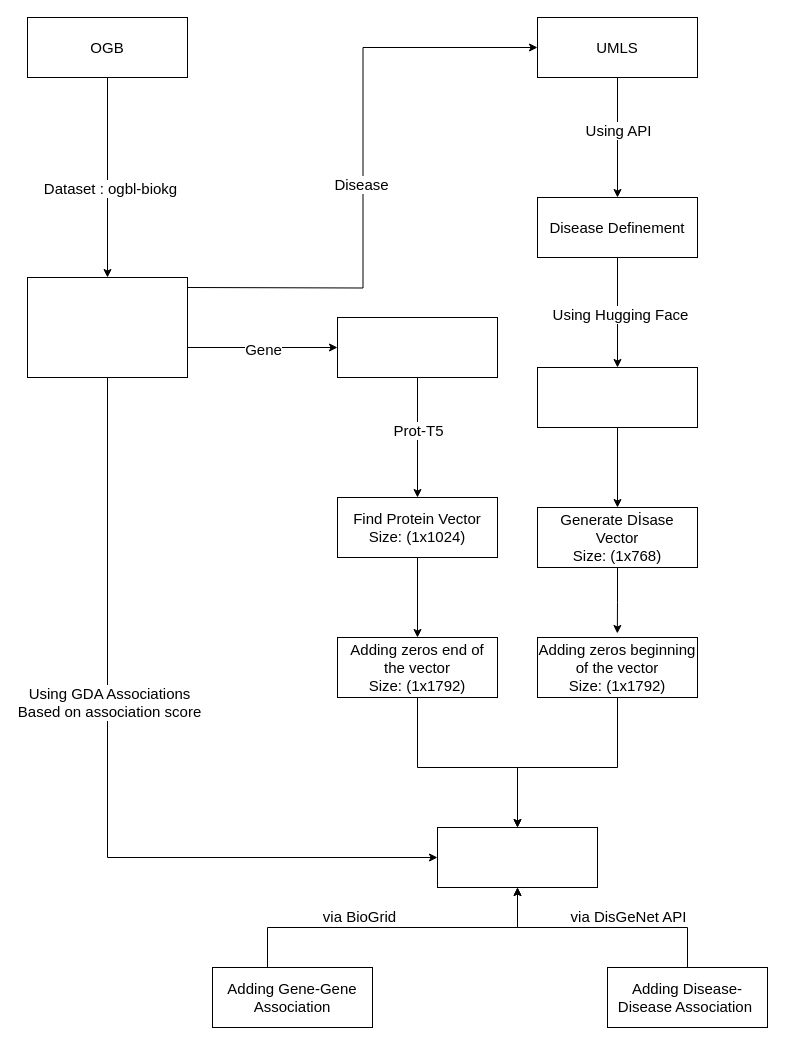
The diagram is 785 pixels wide and 1045 high, and some of its shapes have lost their labels. Here are the shapes that lost their labels. From the top down, the centre of each, then its label:
pixel 107 327: Gene-Disease Association
pixel 417 347: UniProt
pixel 617 397: Find BioBert Model
pixel 517 857: Build Graph via NetworkX
